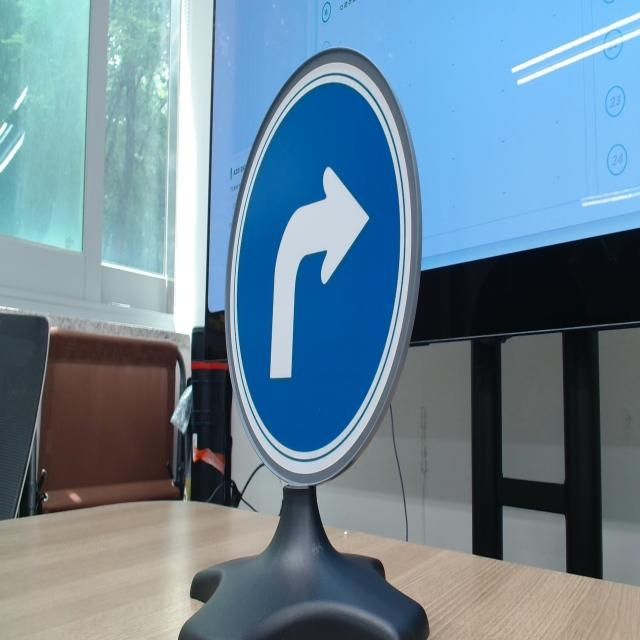right_dierection: (221, 51, 421, 482)
